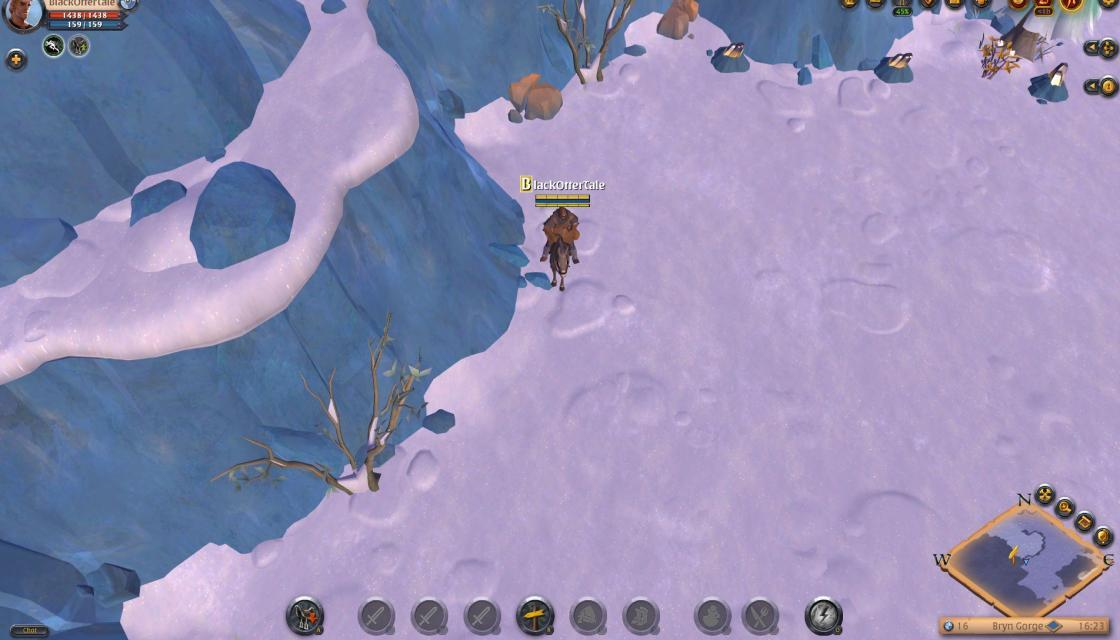copperore: (1024, 60, 1070, 106), (706, 38, 755, 78), (874, 48, 916, 87)
limestone: (503, 72, 566, 124), (651, 0, 706, 41)
